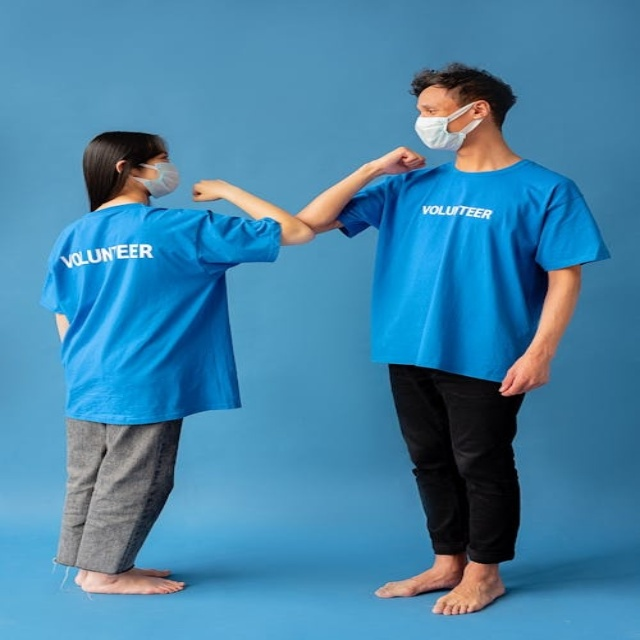Mascara: (415, 101, 484, 150), (131, 162, 180, 197)
Sin_gafas: (411, 97, 453, 116), (146, 149, 177, 163)
Sin_guantes: (497, 354, 550, 396), (375, 143, 420, 173), (186, 178, 225, 203)
